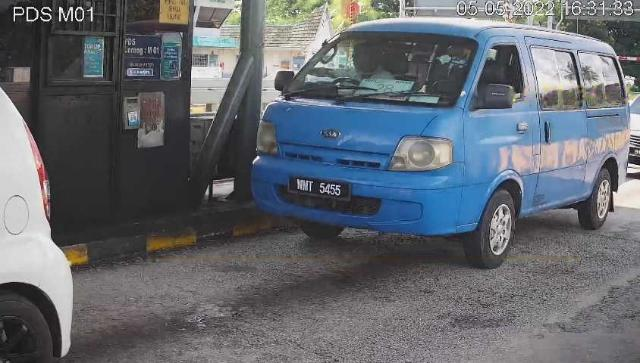License_Plate: (288, 177, 354, 206)
van: (252, 19, 633, 270)
